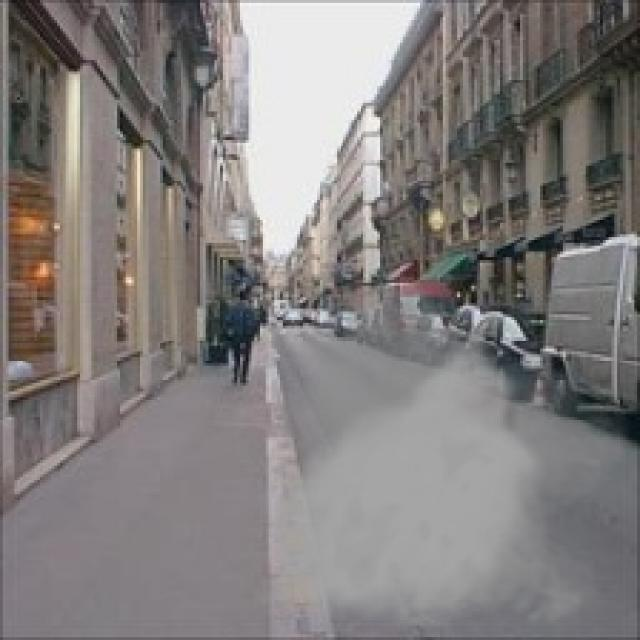Smoke: (254, 280, 629, 637)
